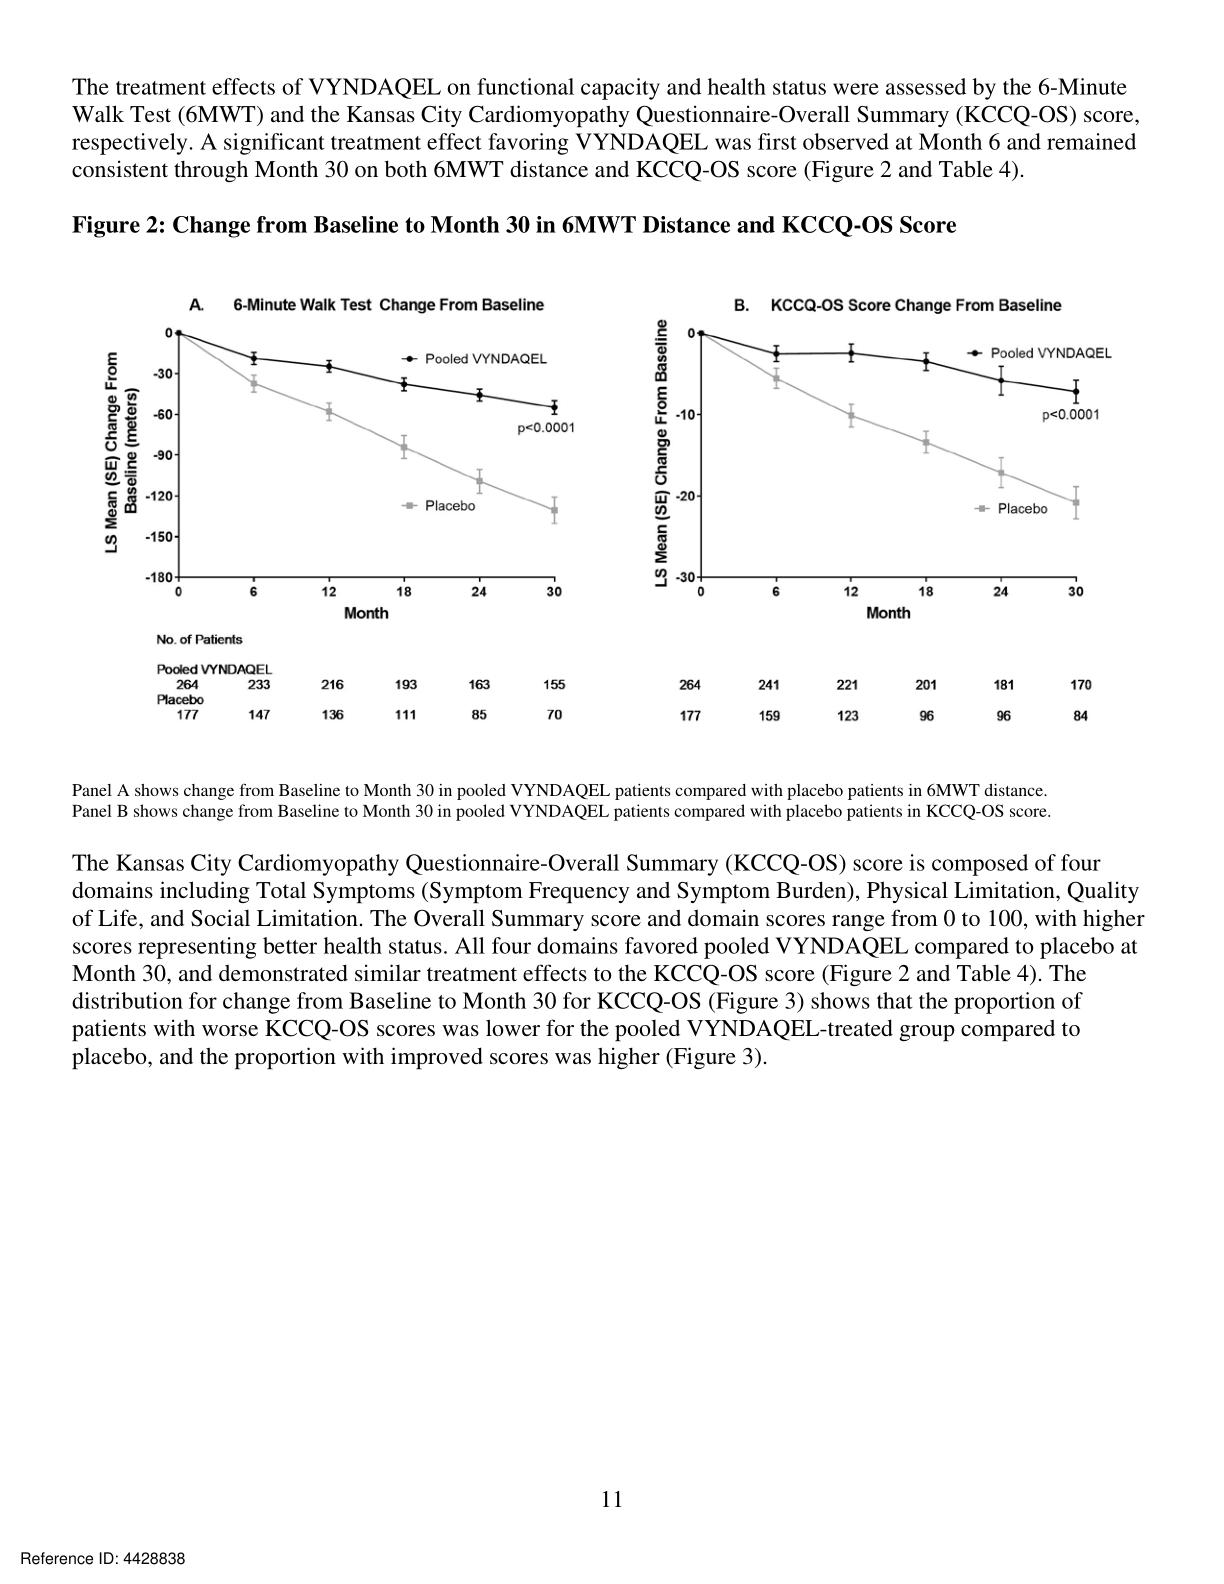nolines: (150, 662, 1097, 724)
